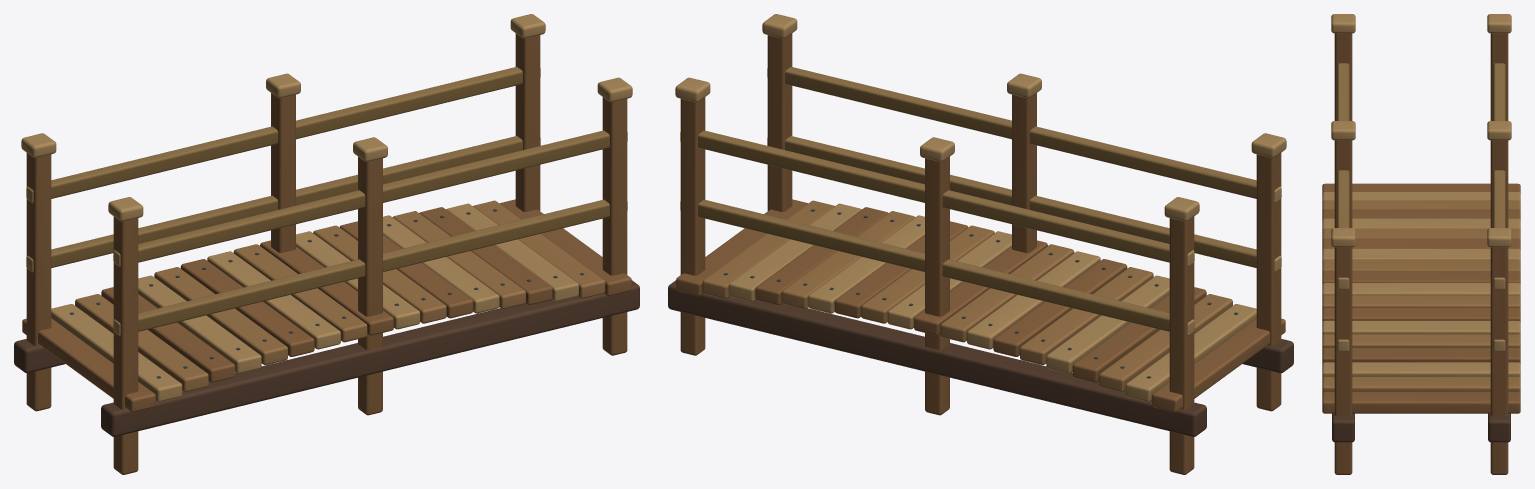
File: fw_bridge_wood.hi.glb
3 views of the same model, side by side, from view 1: azimuth 30°, elevation 25°; view 2: azimuth 150°, elevation 25°; view 3: azimuth 270°, elevation 25° (orthographic). The views are drawn at different scales.
Visible parts, largest first — view 1: body; view 2: body; view 3: body.
Part boxes in pixels (box(x1,y1,x2,y2)): body: box(14, 14, 639, 474); body: box(668, 14, 1293, 474); body: box(1322, 14, 1520, 474).
Bounding box in the file's own units: 4 × 1.93 × 1.45.
